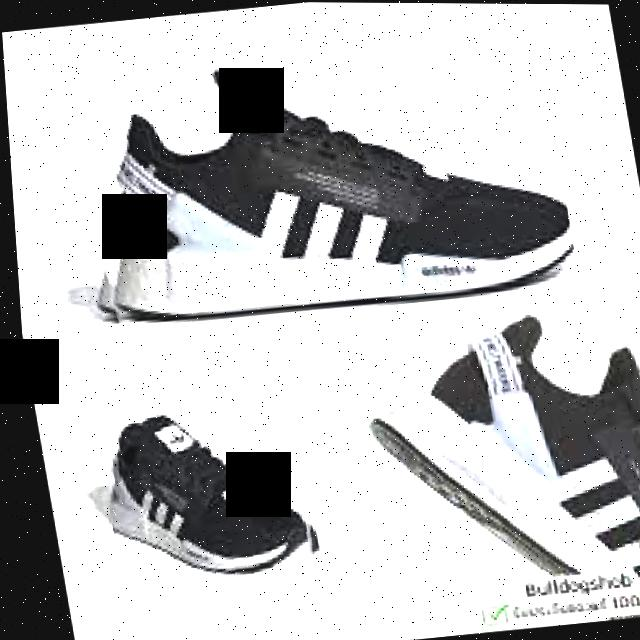shoe: (56, 33, 578, 335), (343, 299, 640, 586), (87, 396, 322, 606)
